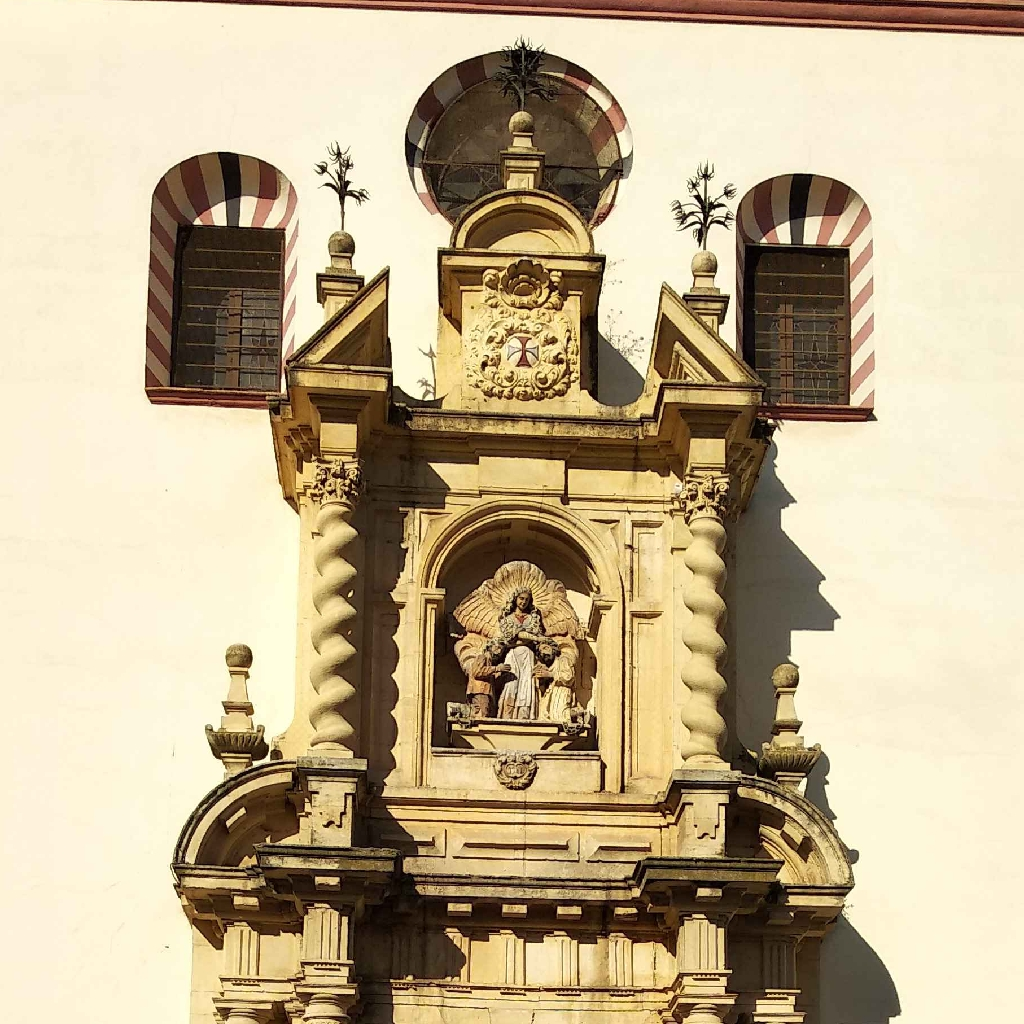arco-medio-punto: (419, 502, 616, 622)
columna-salomonica: (301, 496, 364, 768), (679, 504, 733, 772)
fronton-partido: (188, 761, 832, 897), (284, 274, 778, 423)
